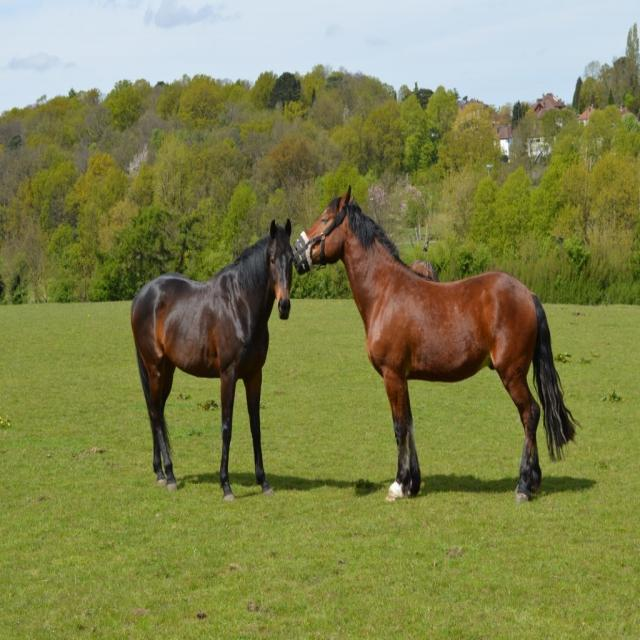Horse: (297, 184, 579, 504), (127, 217, 296, 501)
